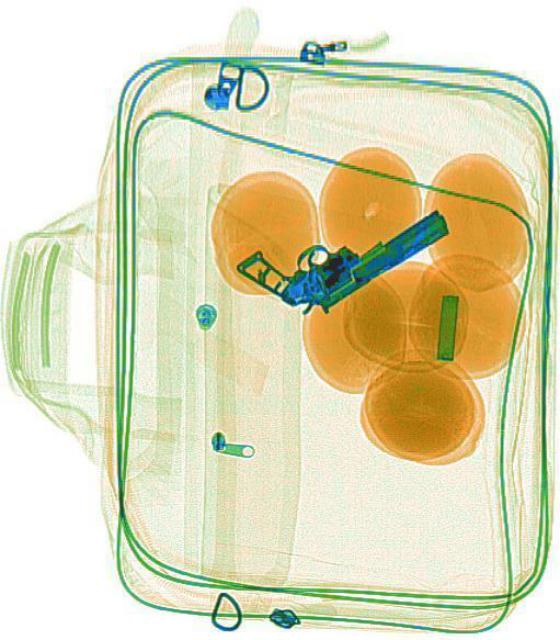Gun: (232, 157, 454, 340)
